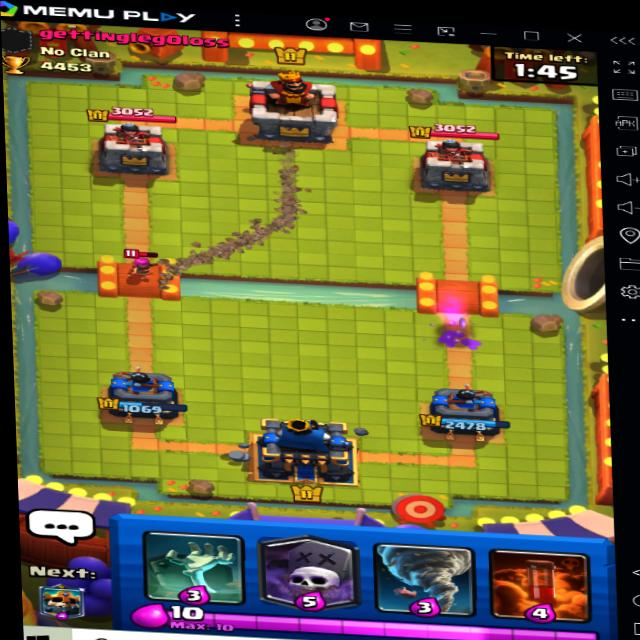archer: (121, 244, 157, 279)
trail: (161, 148, 324, 282)
